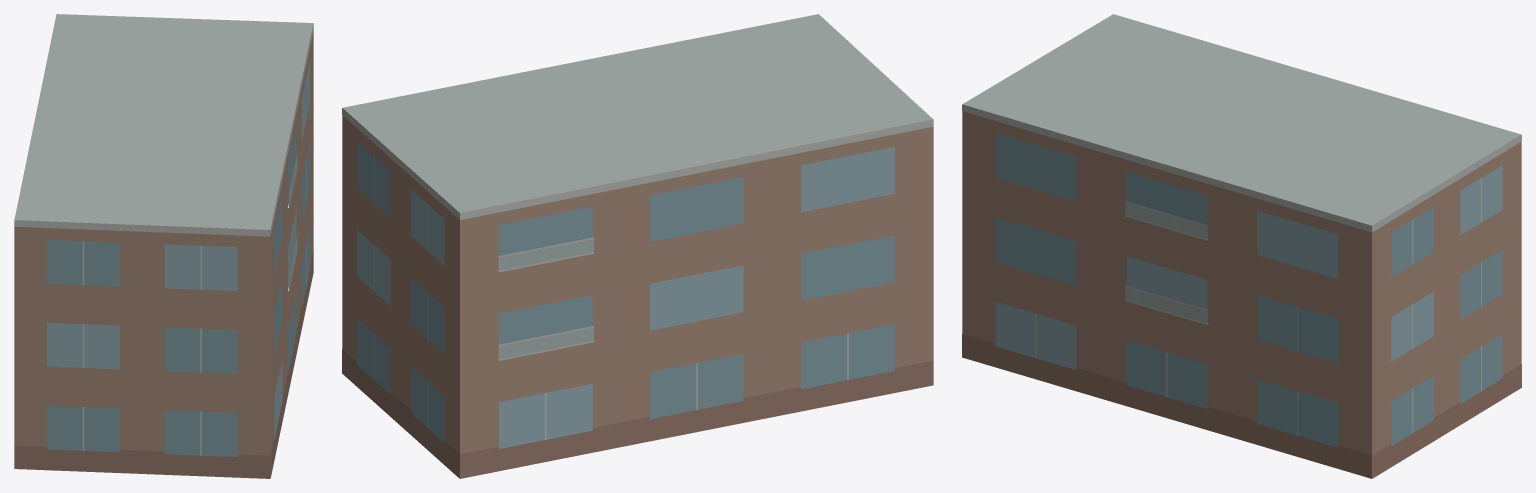
File: survey-upis-32699841.glb
The picture shows the model from 3 angles, left to right: view 1: azimuth 30°, elevation 25°; view 2: azimuth 150°, elevation 25°; view 3: azimuth 270°, elevation 25°; orthographic projection. The views are drawn at different scales.
Parts seen in each view (by area): view 1: survey-upis-32699841.tmp; view 2: survey-upis-32699841.tmp; view 3: survey-upis-32699841.tmp.
Boxes of the visible parts, x1,y1,x2,y2 form: survey-upis-32699841.tmp: (14,14,313,478); survey-upis-32699841.tmp: (342,14,933,478); survey-upis-32699841.tmp: (962,14,1521,478).
Bounding box in the file's own units: 16.42 × 9.15 × 18.34.
